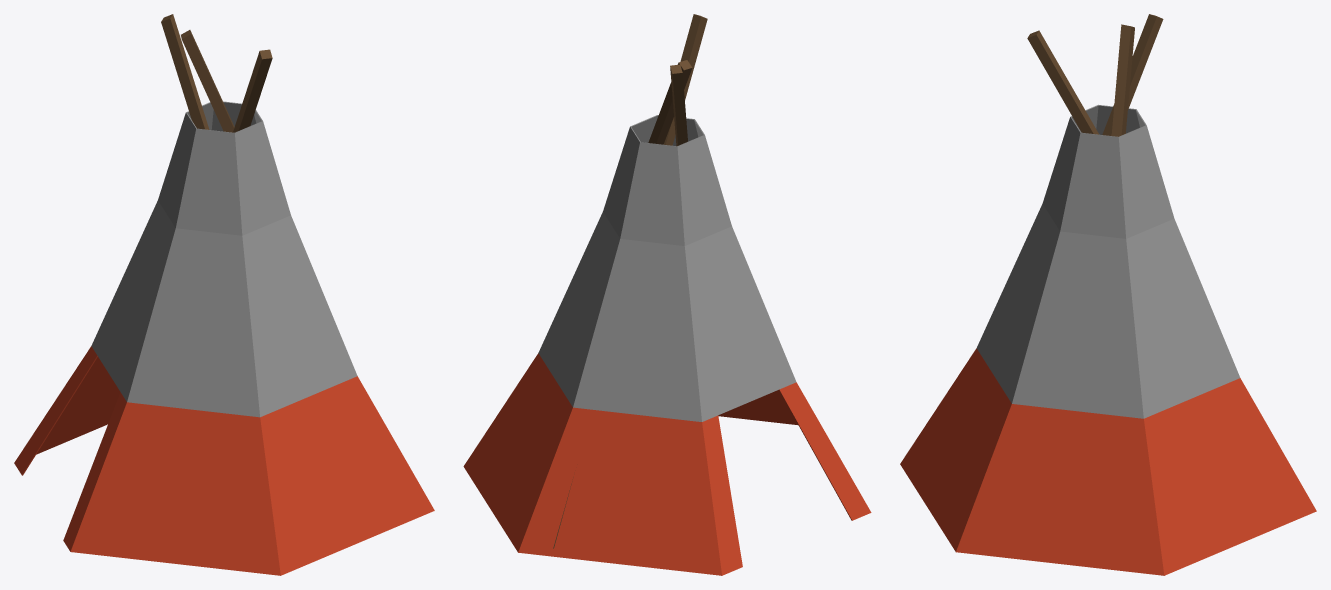
Rendered from Dom5.FBX.
The picture shows the model from 3 angles, left to right: view 1: azimuth 30°, elevation 25°; view 2: azimuth 150°, elevation 25°; view 3: azimuth 270°, elevation 25°; orthographic projection. The views are drawn at different scales.
Parts seen in each view (by area): view 1: Group013; view 2: Group013; view 3: Group013.
Part boxes in pixels (x1=…): Group013: x1=14, y1=14, x2=434, y2=575; Group013: x1=463, y1=14, x2=871, y2=575; Group013: x1=900, y1=14, x2=1316, y2=575.
Bounding box in the file's own units: 1932 × 2341 × 1932.
